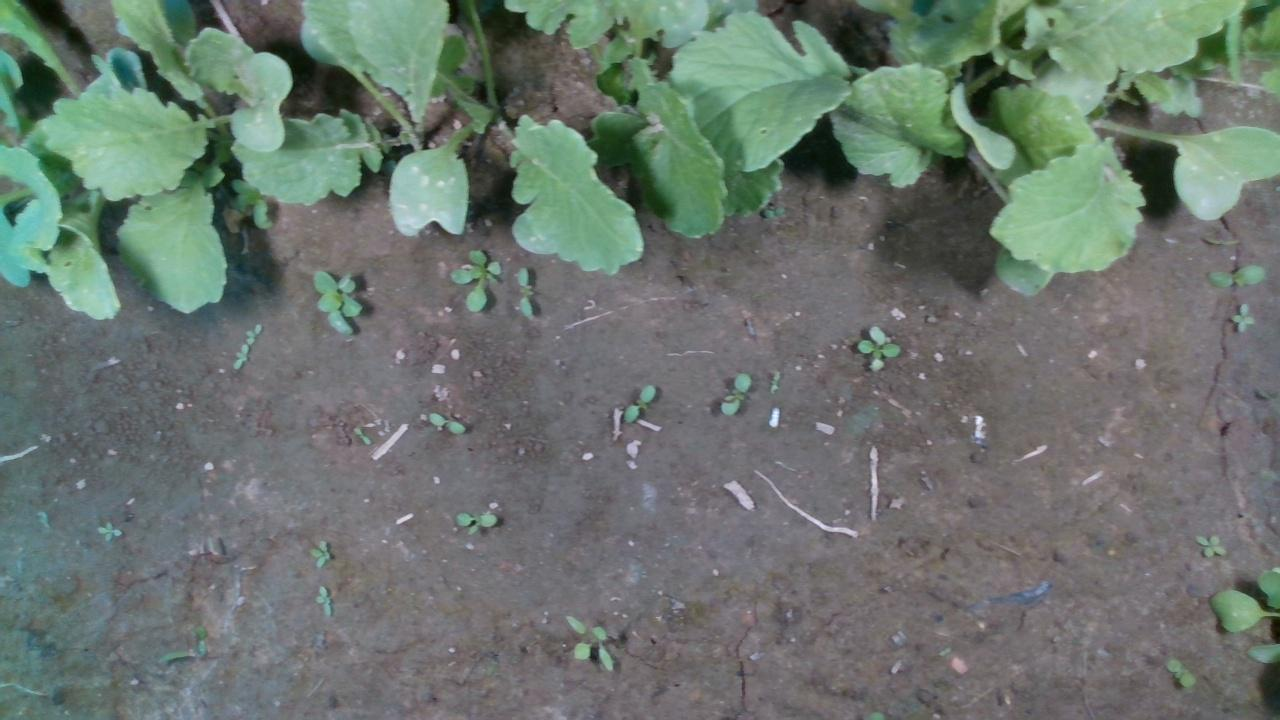weed: (310, 268, 365, 335), (448, 247, 501, 312), (563, 612, 615, 671), (853, 322, 900, 370), (1203, 262, 1266, 288), (717, 371, 750, 417), (621, 383, 654, 421), (453, 509, 497, 536), (513, 266, 533, 319), (1225, 300, 1257, 333), (1163, 657, 1195, 688), (1193, 531, 1229, 558), (425, 410, 465, 433), (309, 535, 331, 569), (313, 584, 332, 619), (1198, 235, 1244, 248), (94, 520, 122, 541), (232, 341, 247, 370), (245, 321, 262, 342)
